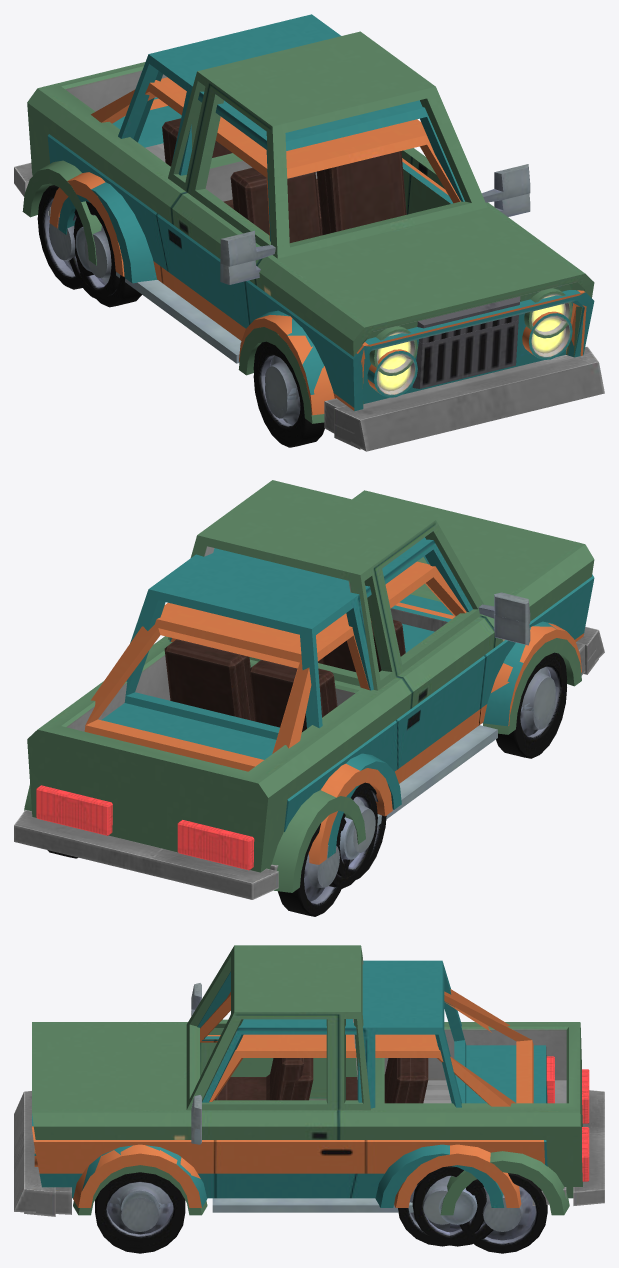
The model's file is cars.glb.
3 views of the same model, one above another, from view 1: azimuth 30°, elevation 25°; view 2: azimuth 150°, elevation 25°; view 3: azimuth 270°, elevation 25° (orthographic). The views are drawn at different scales.
Parts seen in each view (by area): view 1: car3, car1, car2; view 2: car3, car1, car2; view 3: car3, car2, car1.
Boxes of the visible parts, x1,y1,x2,y2 form: car3: (14, 31, 594, 449); car1: (47, 14, 598, 433); car2: (49, 77, 604, 451); car3: (14, 480, 598, 916); car1: (101, 537, 598, 879); car2: (84, 561, 604, 888); car3: (24, 945, 604, 1253); car2: (14, 989, 551, 1246); car1: (24, 960, 566, 1246).
Size of the model in its own units: 0.418 by 0.3434 by 0.8279.
9 materials, 9 textured.
